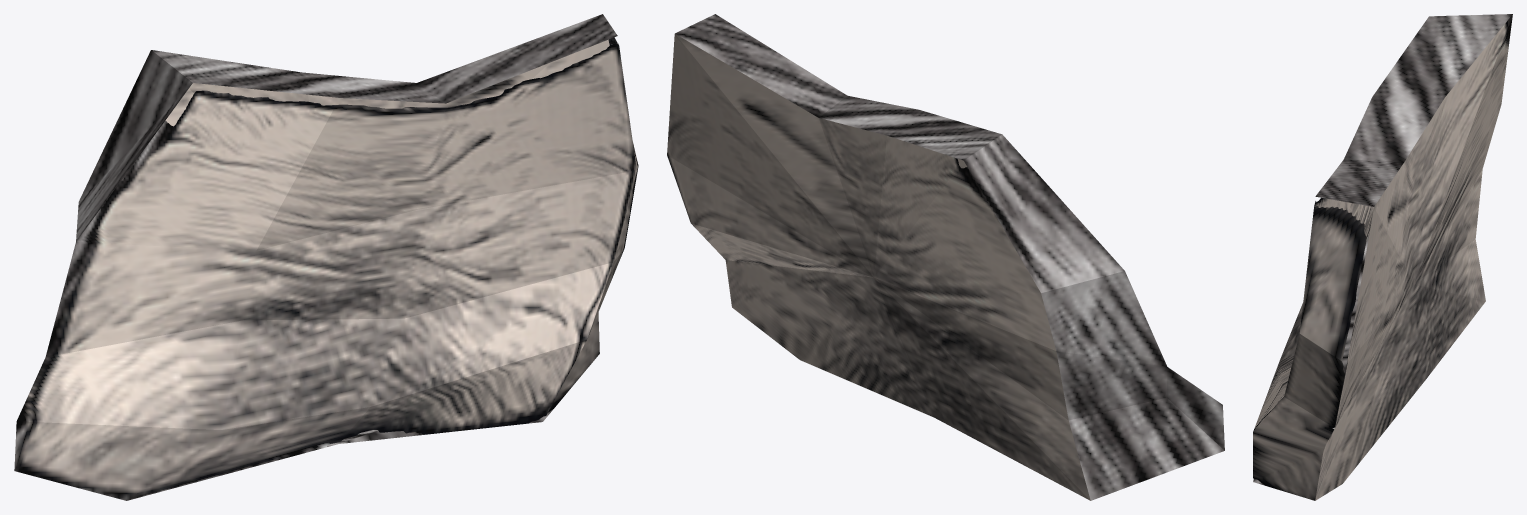
File: pillow.fbx
3 renders of one model, left to right at view 1: azimuth 30°, elevation 25°; view 2: azimuth 150°, elevation 25°; view 3: azimuth 270°, elevation 25°, orthographic. The views are drawn at different scales.
Parts seen in each view (by area): view 1: pillow; view 2: pillow; view 3: pillow.
Boxes of the visible parts, left/top/right/bottom form: pillow: left=14, top=14, right=638, bottom=500; pillow: left=667, top=14, right=1224, bottom=500; pillow: left=1253, top=14, right=1512, bottom=500.
Size of the model in its own units: 2.41 by 1.31 by 0.8846.
